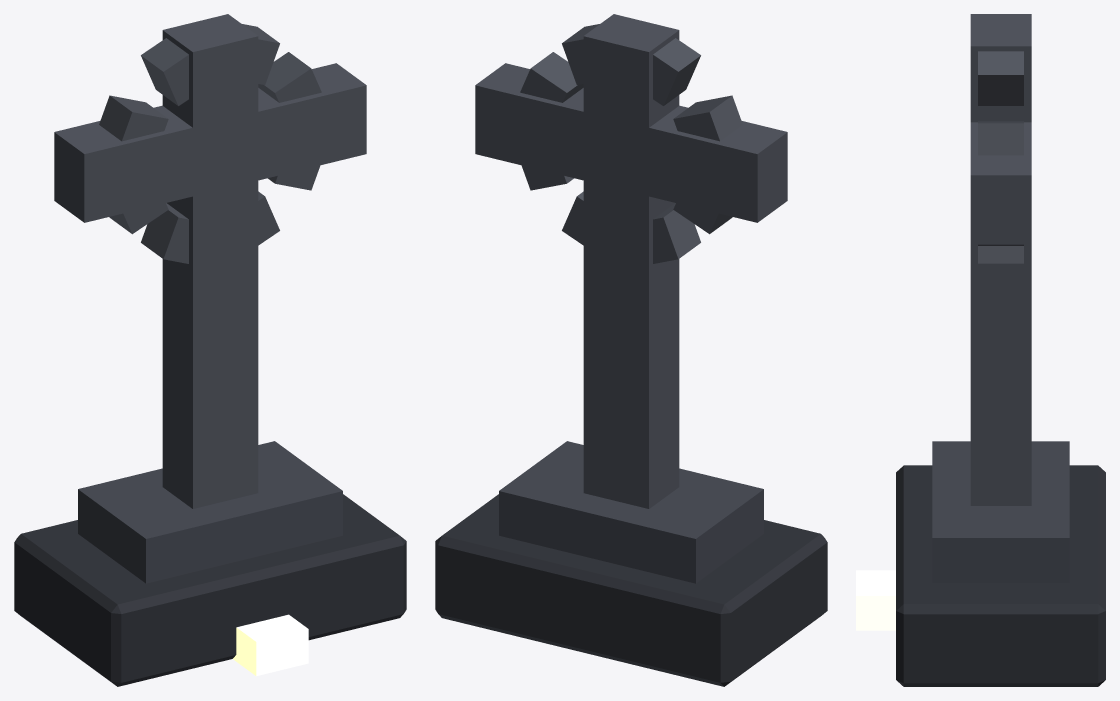
Rendered from gothic_grave_a.glb.
3 views of the same model, side by side, from view 1: azimuth 30°, elevation 25°; view 2: azimuth 150°, elevation 25°; view 3: azimuth 270°, elevation 25° (orthographic).
Visible parts, largest first — view 1: gothic_grave_a; view 2: gothic_grave_a; view 3: gothic_grave_a.
Boxes of the visible parts, x1,y1,x2,y2 form: gothic_grave_a: (14,14,406,686); gothic_grave_a: (435,14,827,686); gothic_grave_a: (856,14,1105,686).
Size of the model in its own units: 0.9 by 1.7 by 0.655.
